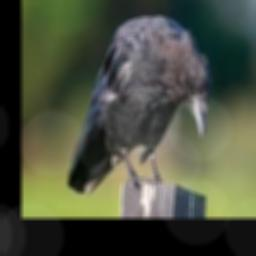Crow: (66, 15, 210, 195)
